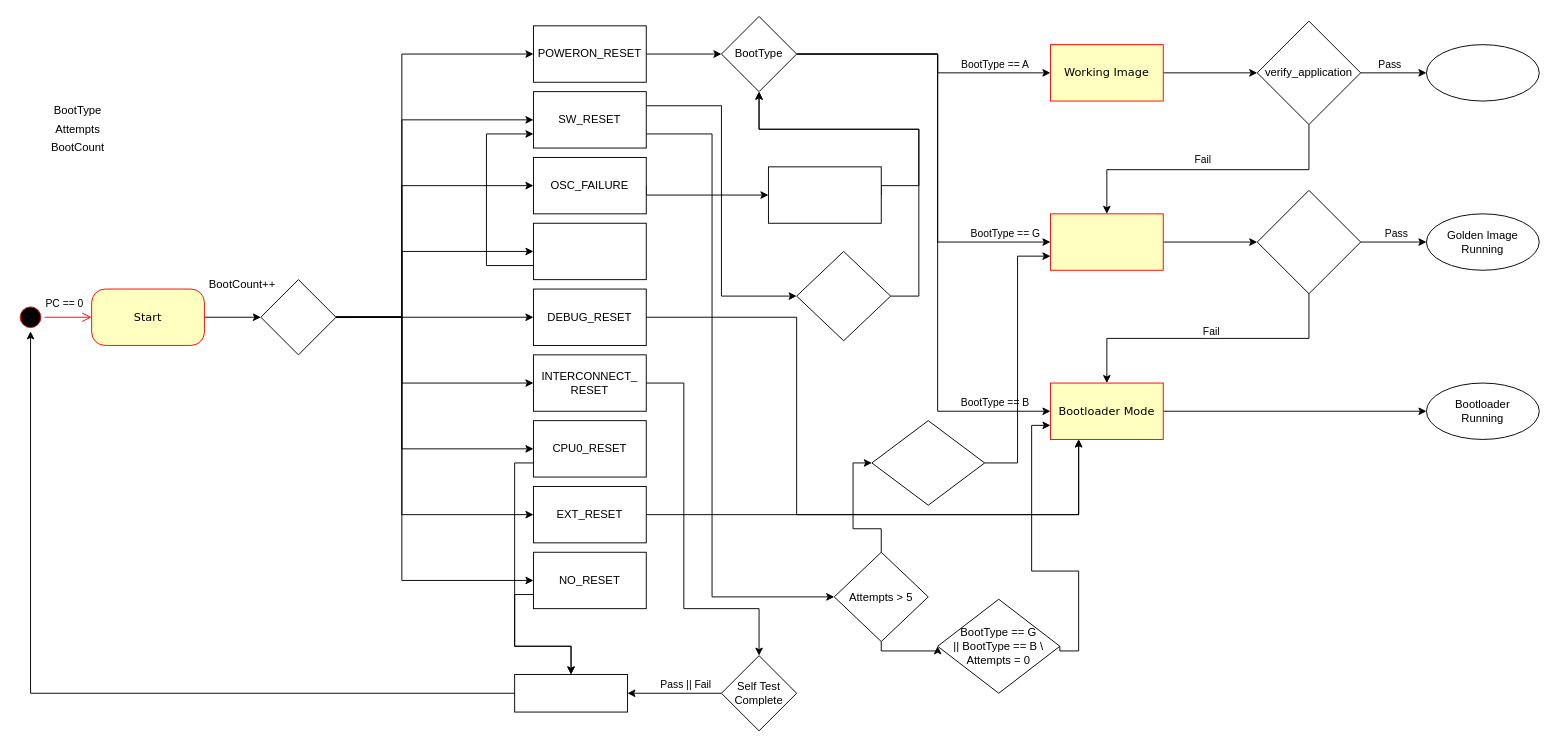
This 1556x747 diagram has some shape labels left out. Each missing label, with the box of its shape:
Attempts < 5 \ Attempts ++: (796, 251, 891, 341)
BootType == A \ Attempts = 0: (871, 420, 985, 505)
GetRstSrc: (260, 279, 336, 355)
Golden Image: (1050, 213, 1163, 270)
Handle PLL failure: (768, 166, 881, 223)
Trigger SW_RESET: (514, 674, 627, 712)
verify_golden: (1256, 189, 1361, 294)
WDT_RESET: (533, 222, 646, 280)
Working Image Running: (1426, 44, 1539, 101)
